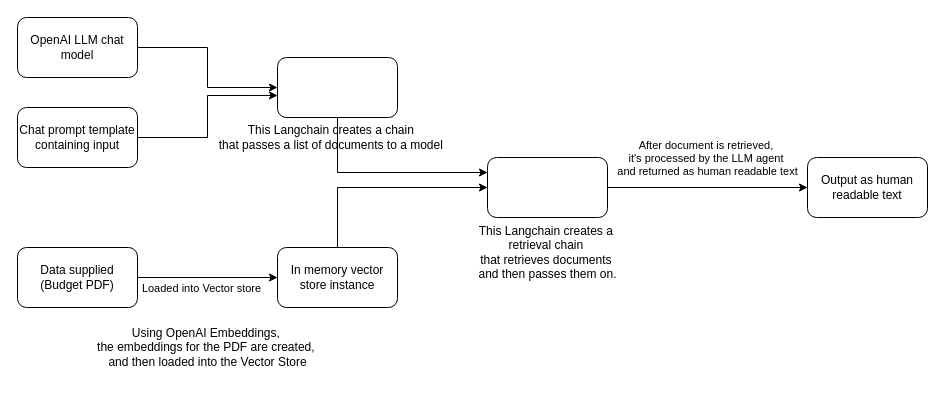
Image size: 945x395. Some labels were removed from this diagram. Here are the shapes that lost their labels. From the top down, the centre of each, then its label:
point (337, 87): Documents Chain
point (547, 187): Retrieval Chain
